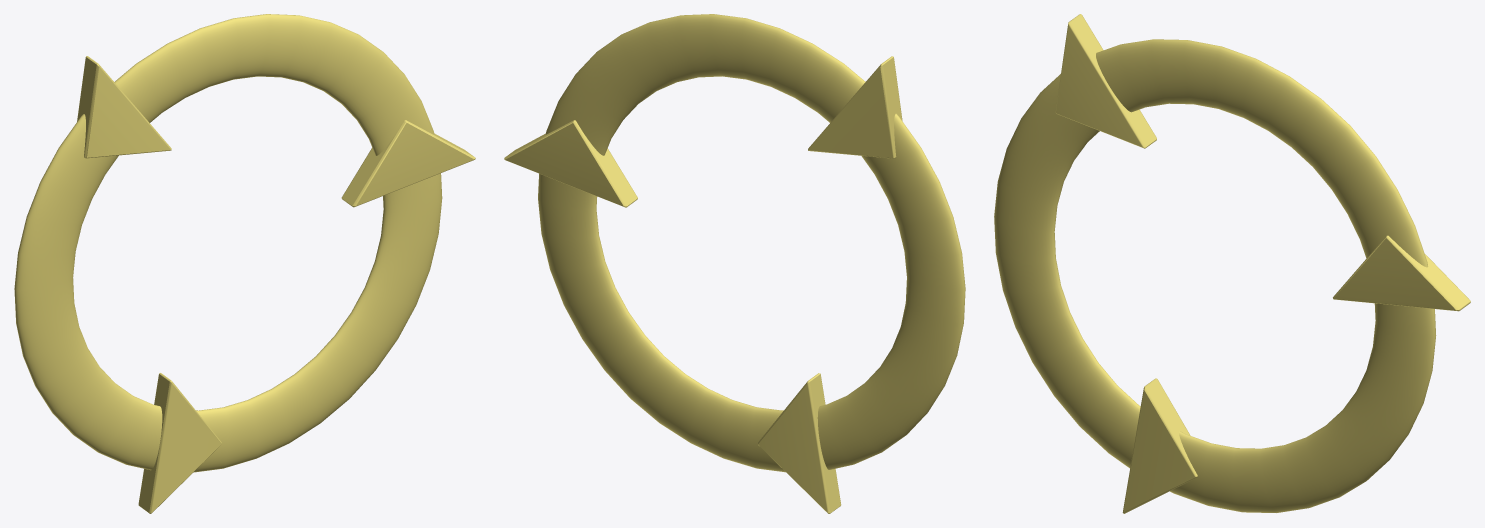
The model's file is Krebs Cycle combine no text.fbx.
The picture shows the model from 3 angles, left to right: view 1: azimuth 30°, elevation 25°; view 2: azimuth 150°, elevation 25°; view 3: azimuth 330°, elevation 25°; orthographic projection. The views are drawn at different scales.
Visible parts, largest first — view 1: pCube2; view 2: pCube2; view 3: pCube2.
Part boxes in pixels (x1,y1,x2,y2): pCube2: (14, 14, 475, 513); pCube2: (504, 14, 965, 513); pCube2: (994, 14, 1470, 513).
Bounding box in the file's own units: 2.1 × 2.07 × 0.1051.
